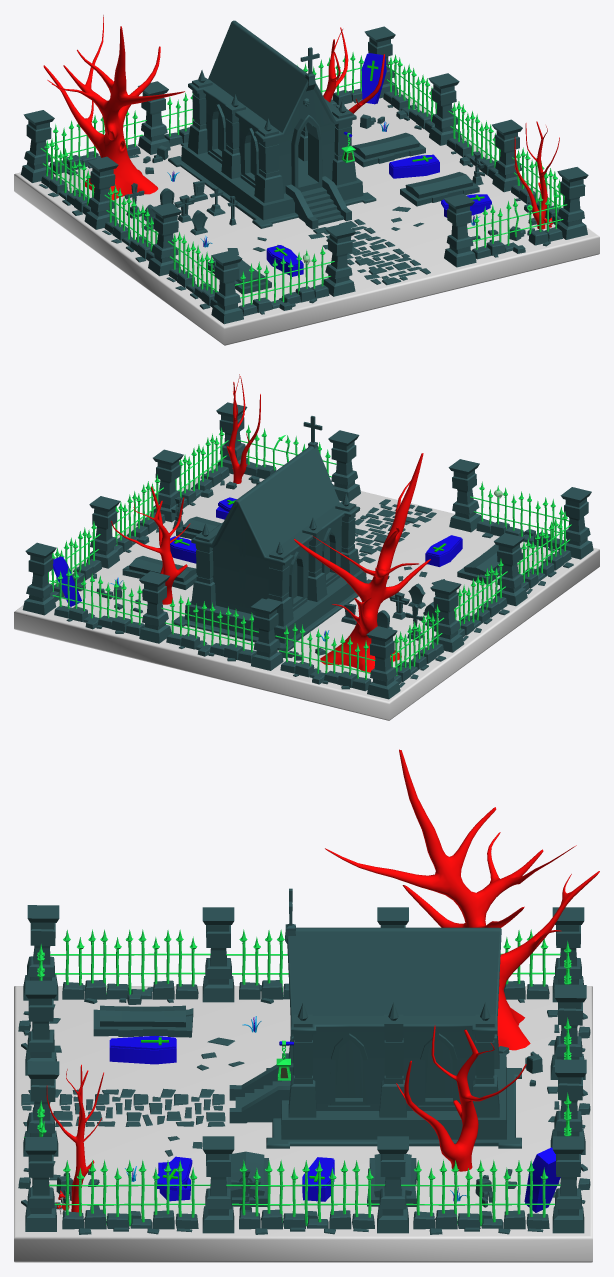
Rendered from Art Diorama.fbx.
3 views of the same model, one above another, from view 1: azimuth 30°, elevation 25°; view 2: azimuth 150°, elevation 25°; view 3: azimuth 270°, elevation 25° (orthographic). The views are drawn at different scales.
Visible parts, largest first — view 1: Box014, Crypt, DeadTree, Column (×2), FenceSection, Tiles001, FenceSection002, FenceSection017, FenceSection009, FenceSection018, FenceSection019, FenceSection010 (+22 smaller); view 2: Box014, Crypt, DeadTree, Column (×2), FenceSection015, FenceSection014, FenceSection013, FenceSection, FenceSection017, FenceSection019, FenceSection018, FenceSection011 (+22 smaller); view 3: Box014, Crypt, DeadTree, FenceSection011, FenceSection009, FenceSection019, FenceSection010, Column (×2), Tiles001, DeadTree3, Grave_003, Column012 (+17 smaller).
Part boxes in pixels (x1,y1,x2,y2): Box014: (14, 89, 599, 345); Crypt: (168, 20, 376, 229); DeadTree: (43, 15, 184, 200); Column (×2): (211, 223, 355, 324); FenceSection: (235, 246, 334, 316); Tiles001: (308, 219, 430, 285); FenceSection002: (467, 189, 567, 259); FenceSection017: (39, 138, 94, 215); FenceSection009: (383, 54, 437, 132); FenceSection018: (102, 184, 158, 262); FenceSection019: (166, 232, 217, 309); FenceSection010: (446, 101, 500, 179); Box014: (14, 463, 599, 720); Crypt: (173, 416, 371, 651); DeadTree: (294, 453, 430, 672); Column (×2): (448, 459, 593, 559); FenceSection015: (275, 623, 375, 691); FenceSection014: (161, 595, 258, 663); FenceSection013: (49, 567, 147, 635); FenceSection: (470, 481, 569, 551); FenceSection017: (390, 604, 446, 687); FenceSection019: (517, 511, 573, 594); FenceSection018: (454, 558, 509, 641); FenceSection011: (175, 427, 229, 508); Box014: (14, 986, 592, 1262); Crypt: (229, 888, 521, 1148); DeadTree: (325, 749, 599, 1050); FenceSection011: (49, 1159, 210, 1234); FenceSection009: (401, 1159, 560, 1234); FenceSection019: (50, 929, 210, 1004); FenceSection010: (226, 1160, 384, 1234); Column (×2): (23, 905, 59, 1075); Tiles001: (21, 1088, 225, 1126); DeadTree3: (396, 1025, 526, 1171); Grave_003: (93, 1005, 193, 1037); Column012: (202, 1136, 234, 1233).
Bounding box in the file's own units: 1030 × 546 × 1012.
